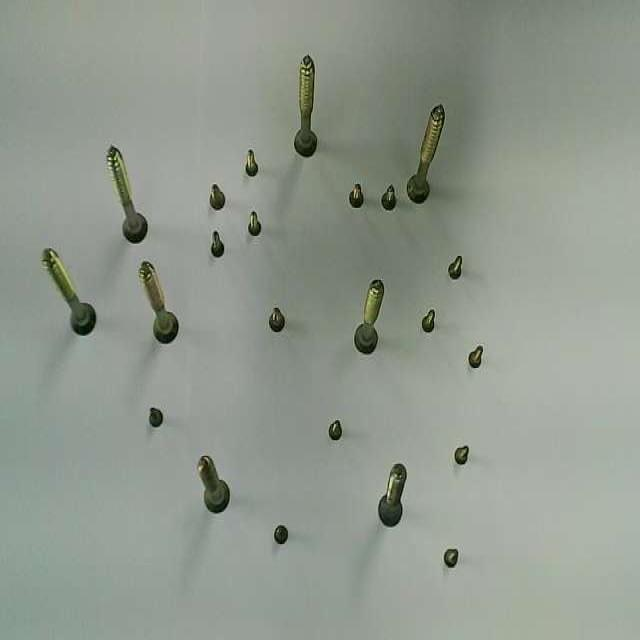Parafuso: (42, 249, 95, 333), (107, 145, 145, 241), (407, 107, 443, 201), (138, 263, 177, 341), (294, 55, 316, 156), (354, 280, 383, 352), (378, 463, 406, 525), (198, 456, 228, 512), (269, 308, 284, 331), (381, 185, 395, 209), (210, 184, 223, 209), (211, 231, 223, 256), (245, 151, 257, 175), (350, 183, 363, 205), (448, 256, 461, 277), (422, 309, 434, 331), (469, 347, 482, 367), (248, 211, 259, 233), (274, 525, 287, 543), (444, 549, 457, 567), (149, 408, 162, 425), (455, 447, 468, 463), (329, 423, 340, 439)
